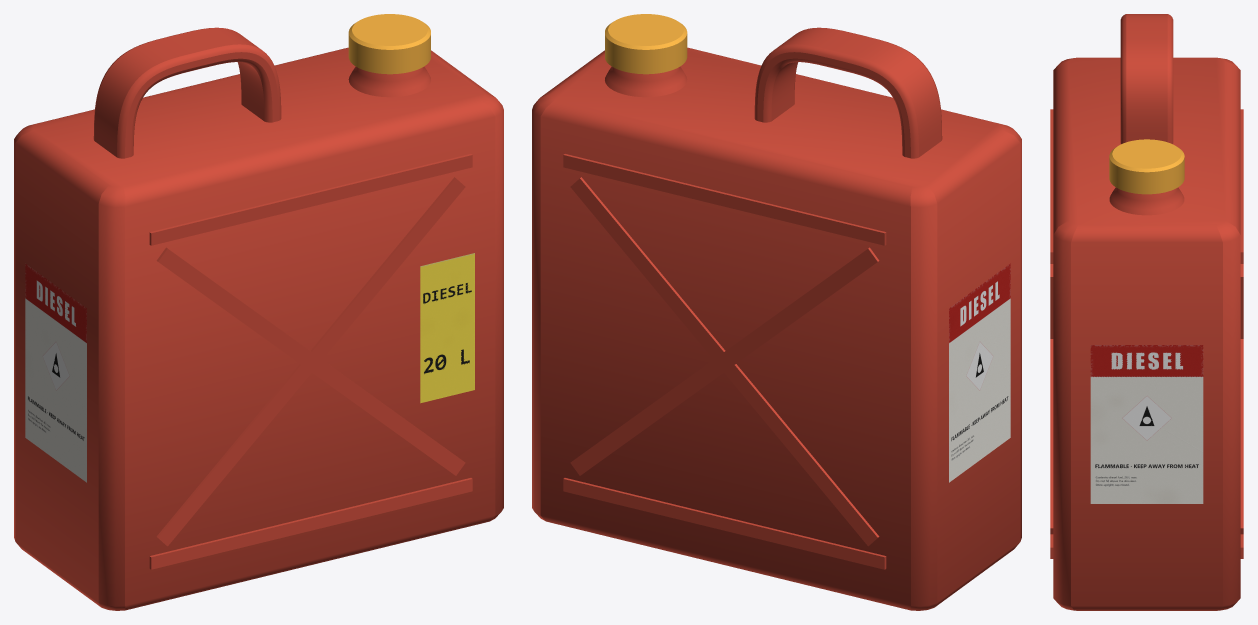
Rendered from container_jerrycan_fuel.glb.
3 views of the same model, side by side, from view 1: azimuth 30°, elevation 25°; view 2: azimuth 150°, elevation 25°; view 3: azimuth 270°, elevation 25° (orthographic). The views are drawn at different scales.
Visible parts, largest first — view 1: Body, Label_end_back, Handle, Label_panel, Cap; view 2: Body, Label_end_back, Handle, Cap; view 3: Body, Label_end, Handle, Cap.
Part boxes in pixels (box(x1,y1,x2,y2)): Body: box(14, 47, 503, 610); Label_end_back: box(25, 263, 86, 482); Handle: box(93, 27, 281, 158); Label_panel: box(420, 253, 474, 403); Cap: box(348, 14, 430, 74); Body: box(532, 47, 1021, 610); Label_end_back: box(949, 263, 1010, 482); Handle: box(754, 27, 942, 158); Cap: box(605, 14, 687, 74); Body: box(1050, 57, 1243, 610); Label_end: box(1090, 345, 1203, 503); Handle: box(1120, 14, 1173, 143); Cap: box(1109, 139, 1184, 194).
Bounding box in the file's own units: 0.3407 × 0.4089 × 0.154.
6 materials, 3 textured.
